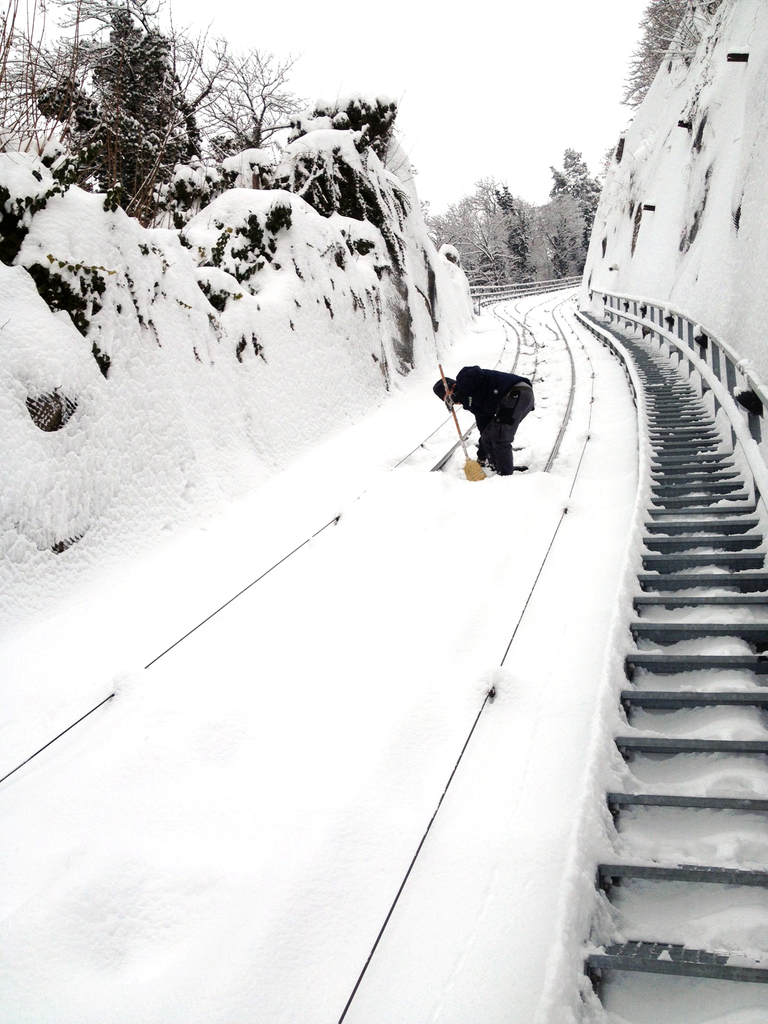Tree: (423, 0, 729, 298), (53, 41, 225, 220), (195, 41, 318, 165)
